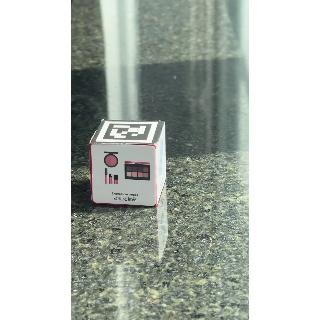Expired_Cosmetic: (92, 145, 161, 210)
